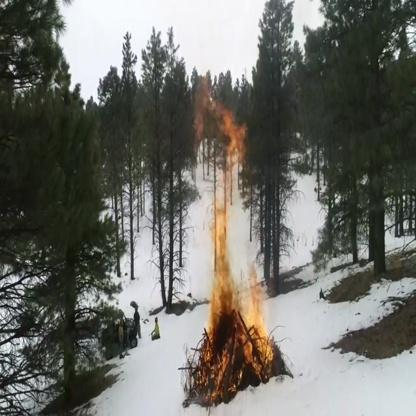Fire: (180, 70, 287, 406)
